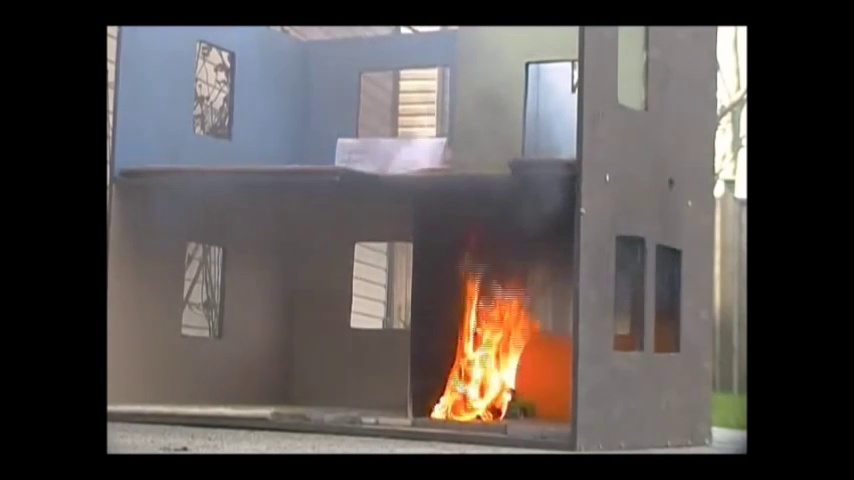fire: (433, 277, 525, 418)
